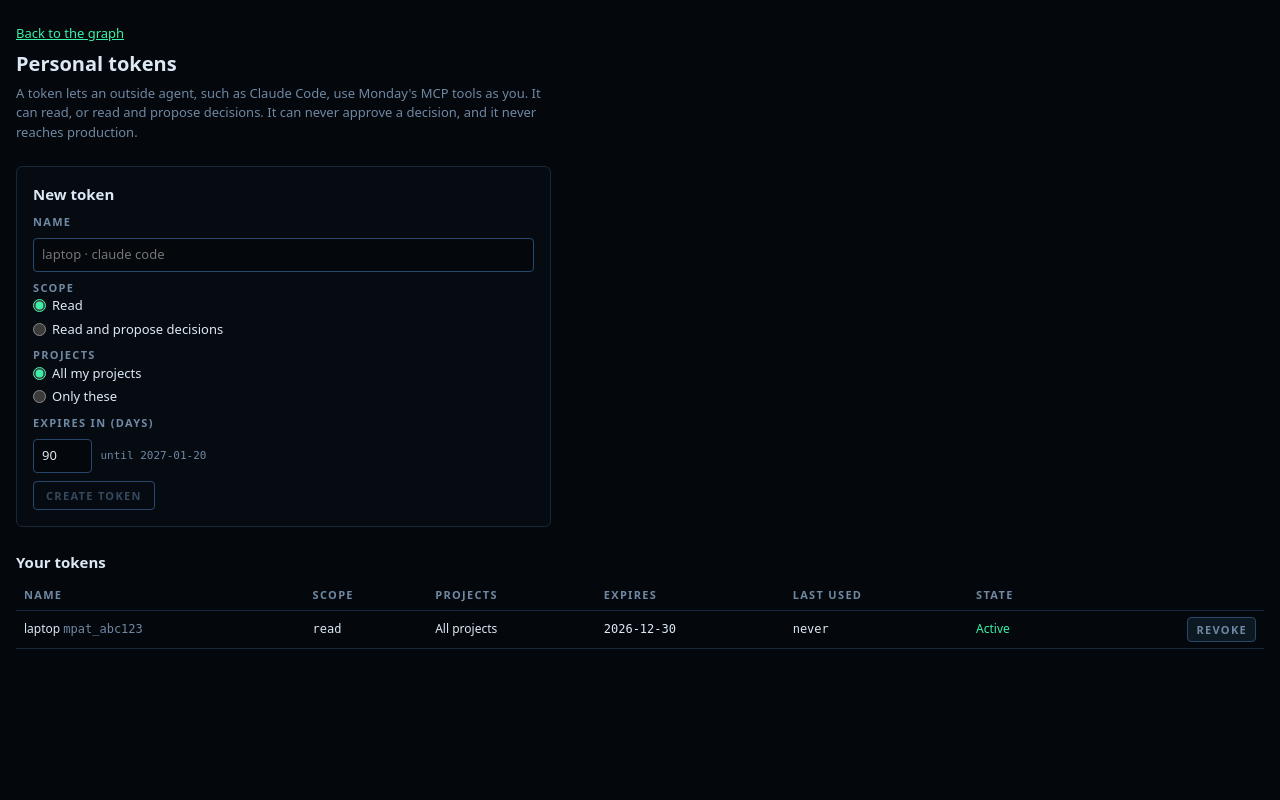
TokensComponent › shows a failed revoke and reloads the row from the server
Click the button "Revoke". click: (1222,629)
box: [1187,616,1256,642]
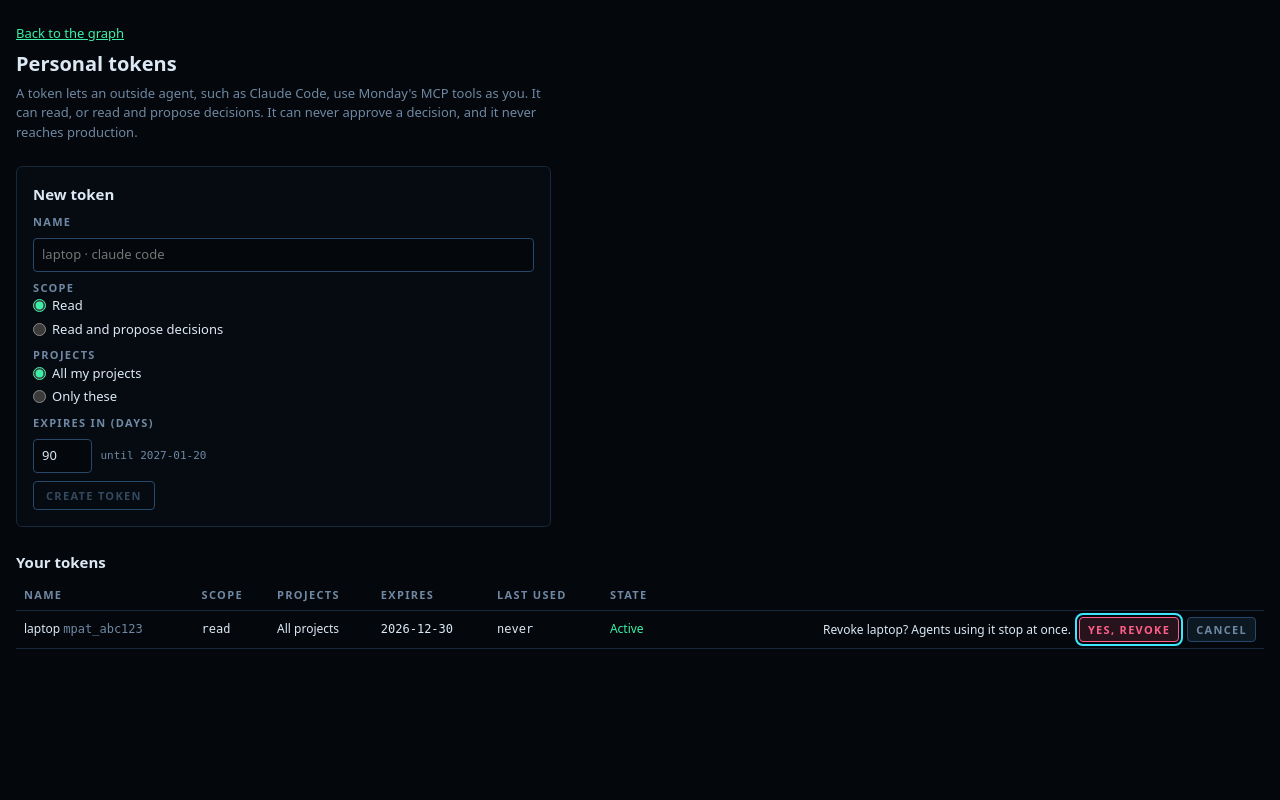
Click the button "Yes, revoke". click: (1129,629)
box: [1079,616,1179,642]
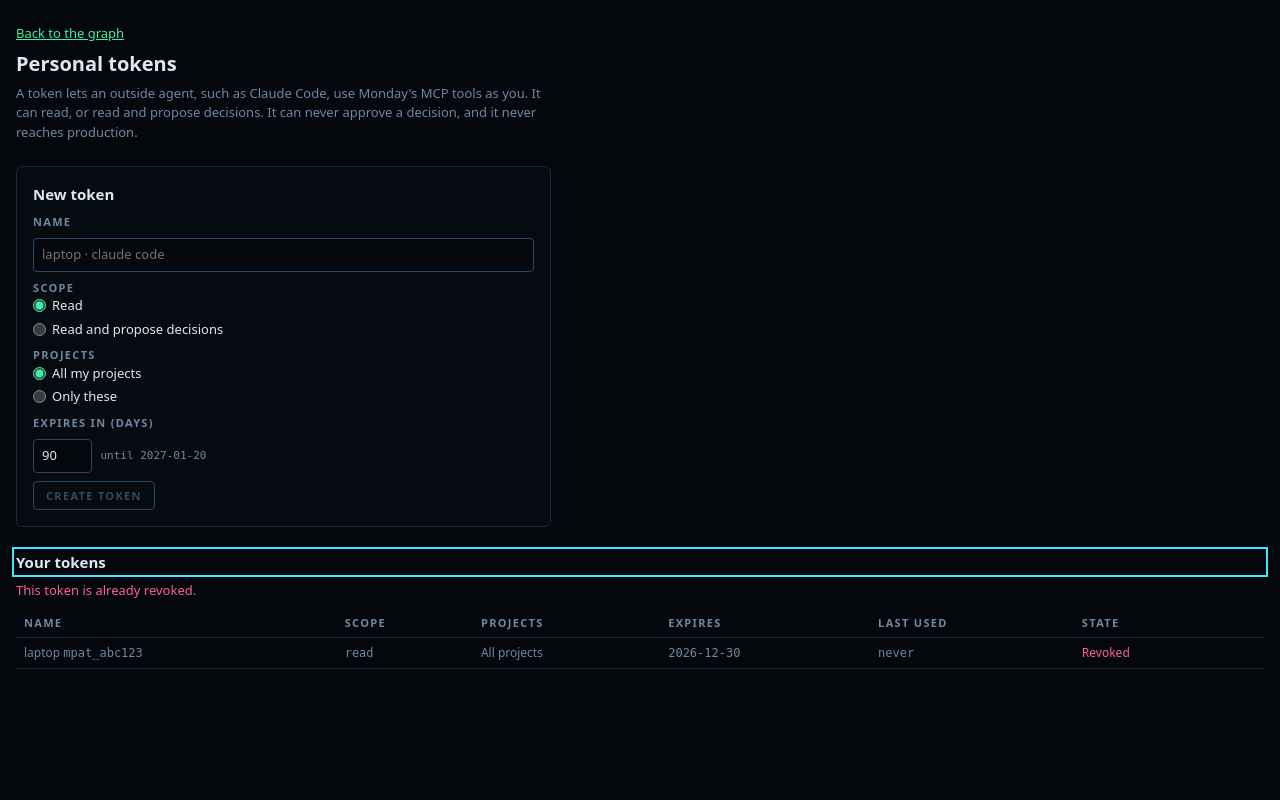
Expected: the message "This token is already revoked." is shown, [16,581,196,599]
Expected: the cell "Revoked" is shown, [1074,638,1226,668]
